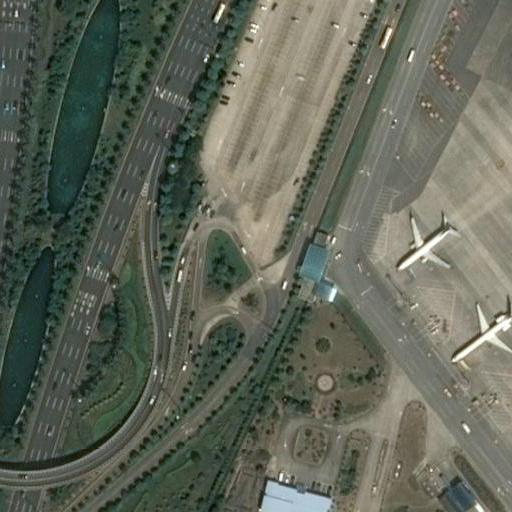Aircraft: (387, 212, 456, 272), (447, 301, 512, 363)
